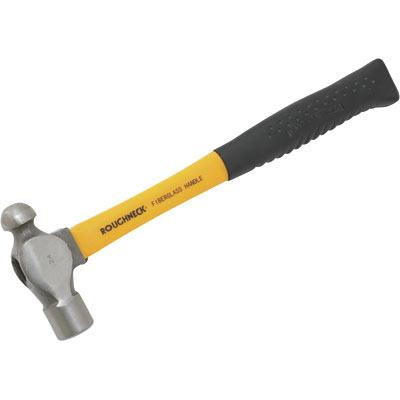hammer: (0, 55, 398, 341)
